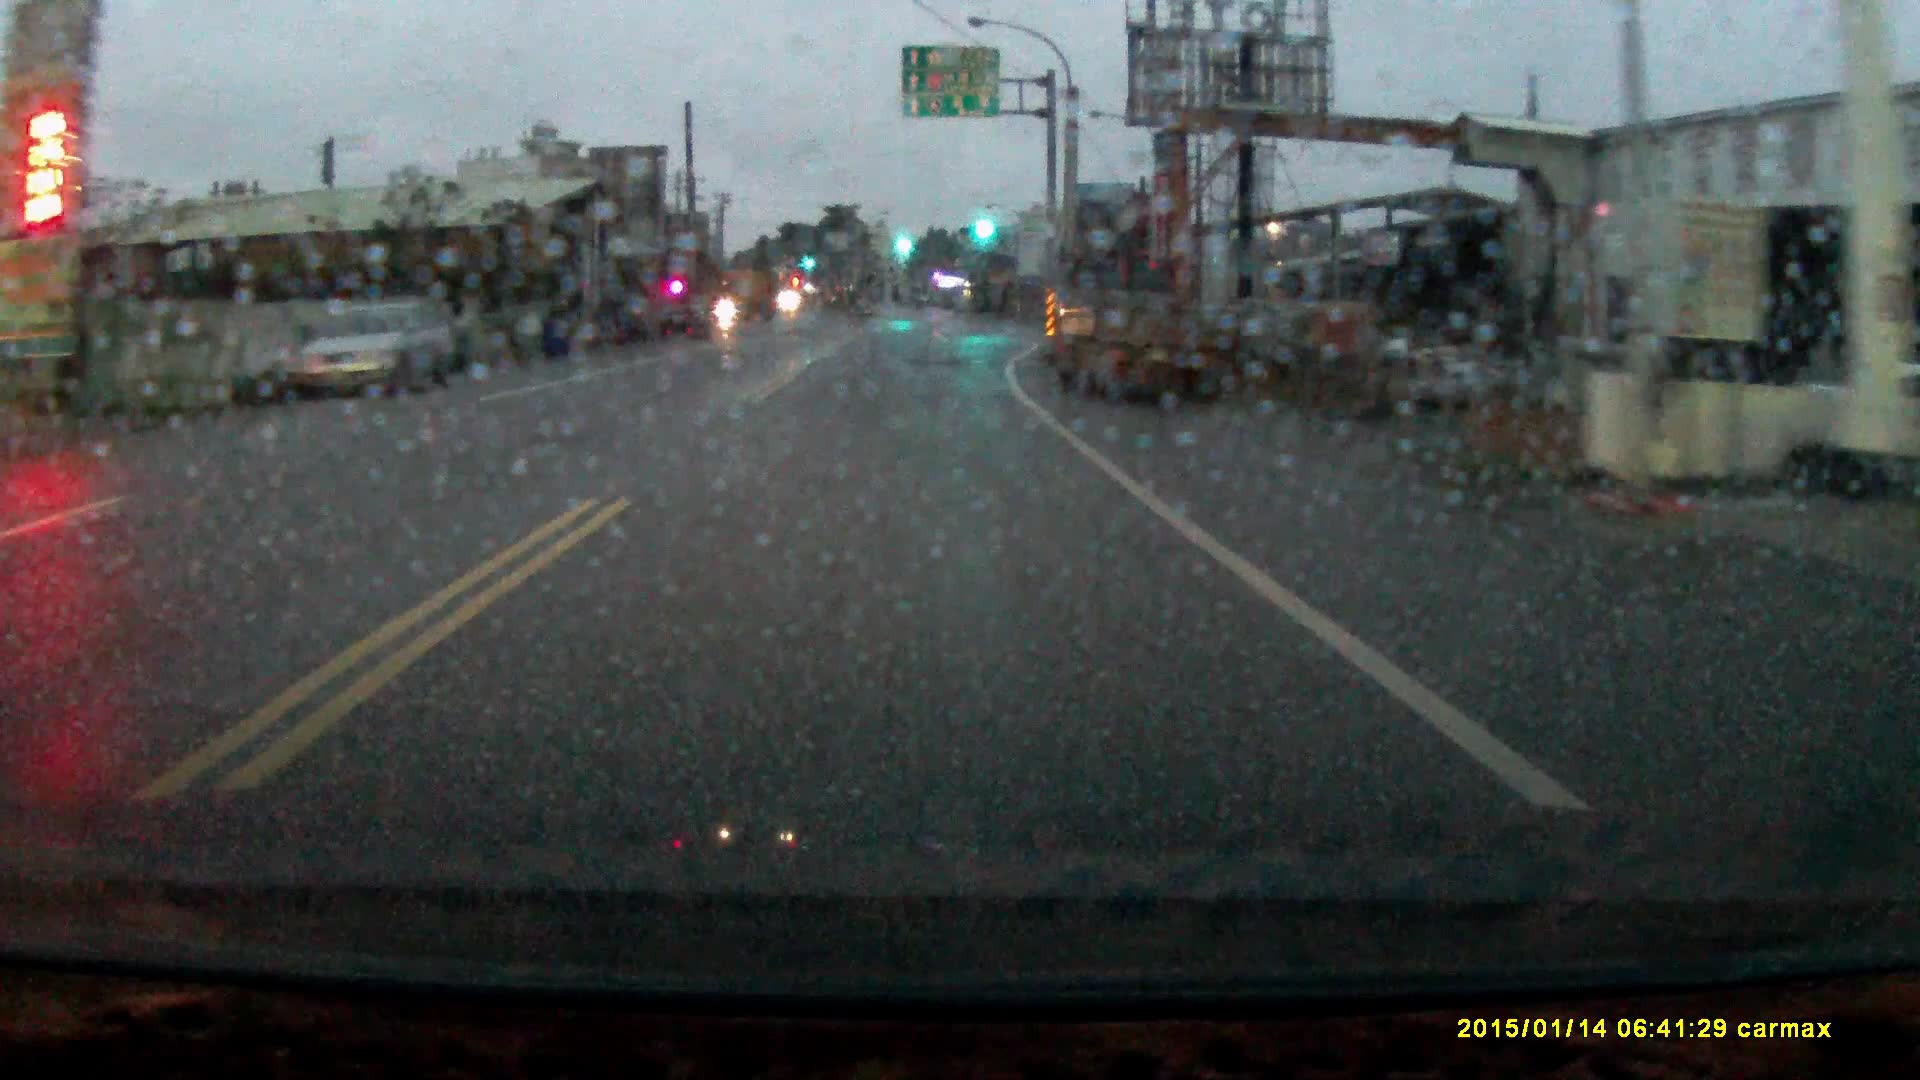vehicle: (1043, 247, 1193, 402), (287, 295, 455, 394), (709, 262, 777, 318)
